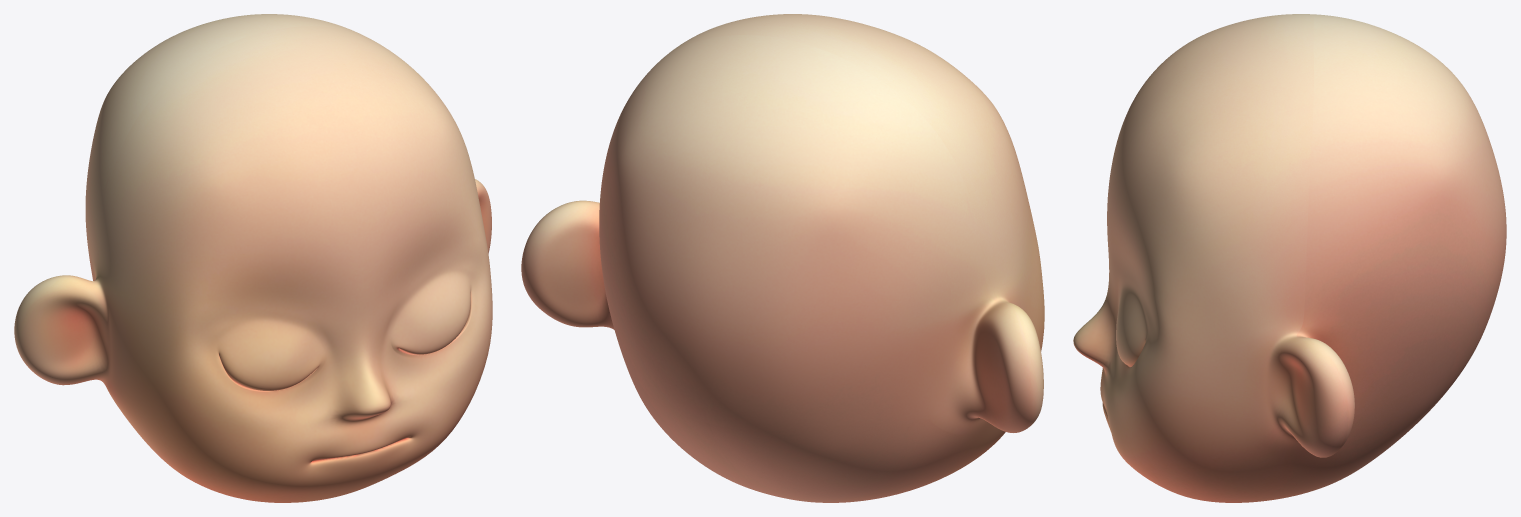
Rendered from golova_model.glb.
The picture shows the model from 3 angles, left to right: view 1: azimuth 30°, elevation 25°; view 2: azimuth 150°, elevation 25°; view 3: azimuth 270°, elevation 25°; orthographic projection. The views are drawn at different scales.
Visible parts, largest first — view 1: head.002; view 2: head.002; view 3: head.002.
Boxes of the visible parts, x1=… form: head.002: x1=14, y1=14, x2=492, y2=502; head.002: x1=521, y1=14, x2=1044, y2=502; head.002: x1=1073, y1=14, x2=1506, y2=502.
Size of the model in its own units: 0.2972 by 0.2553 by 0.2271.
1 material, 1 textured.
